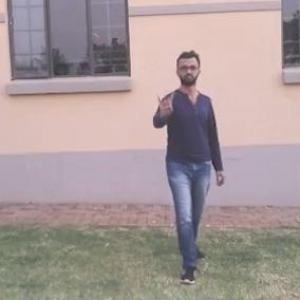takeoff-hand: (153, 84, 179, 120)
